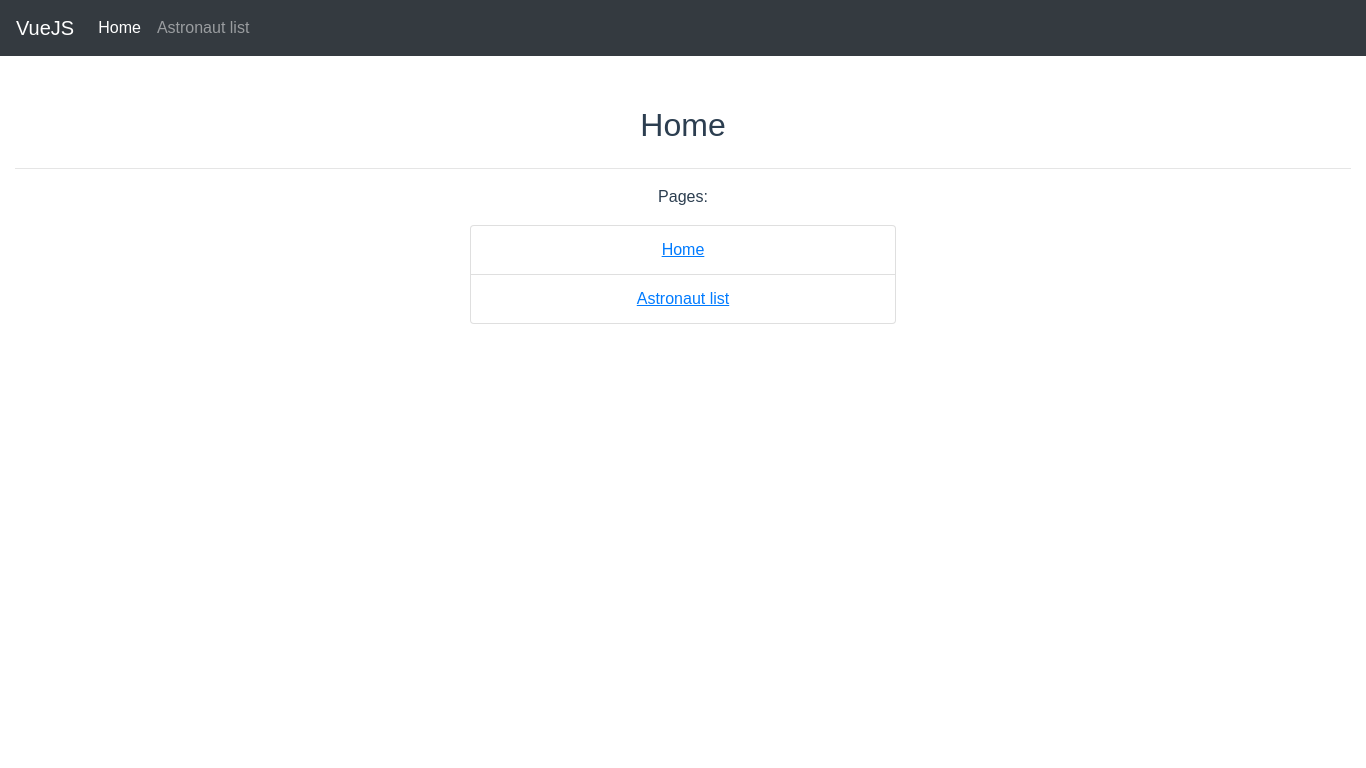
Test: Load Home page › Navigate to Astronauts list page from Home by page-item element
Click the link with class "link-to-astronauts-list". click: (684, 299)
box: [637, 290, 730, 307]
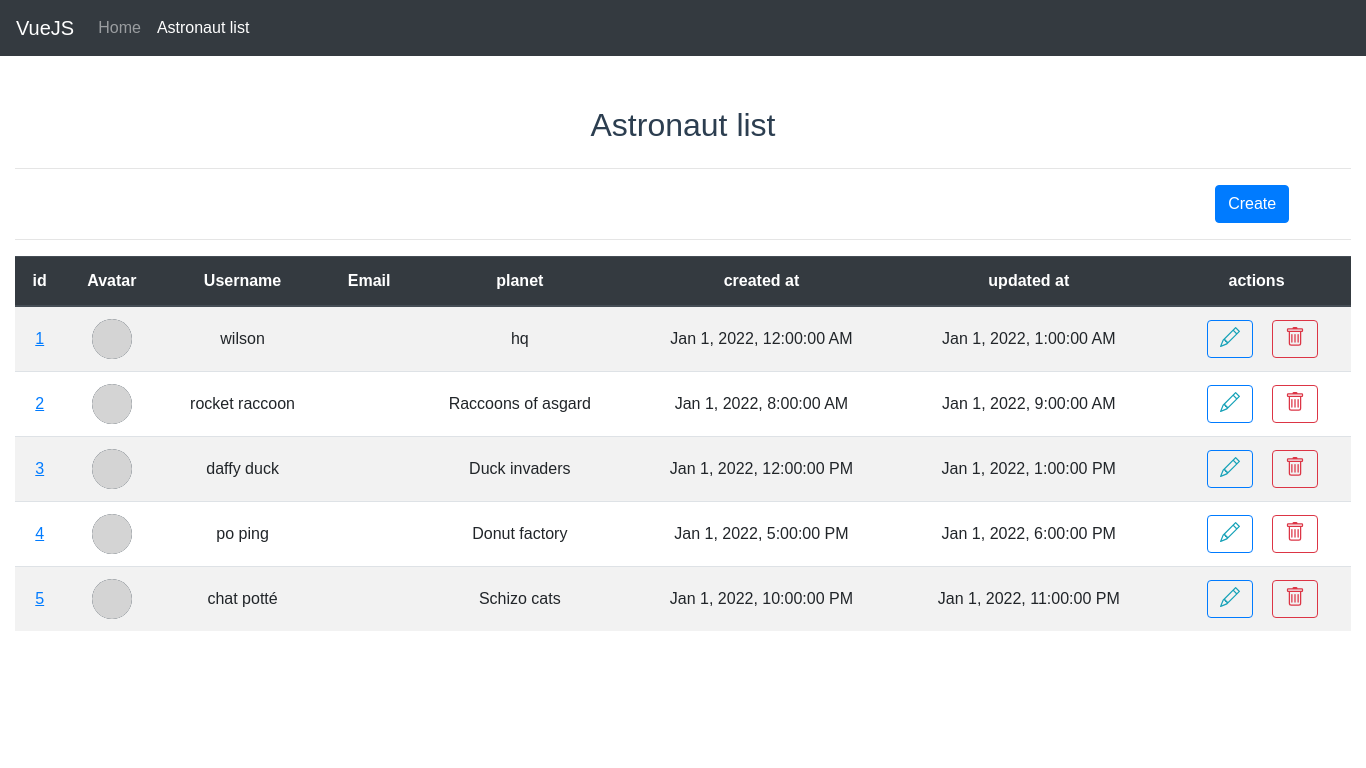
Expected: the heading "Astronaut list" is shown, [590, 107, 776, 143]
Result: the element with id "astronauts-list" is shown
